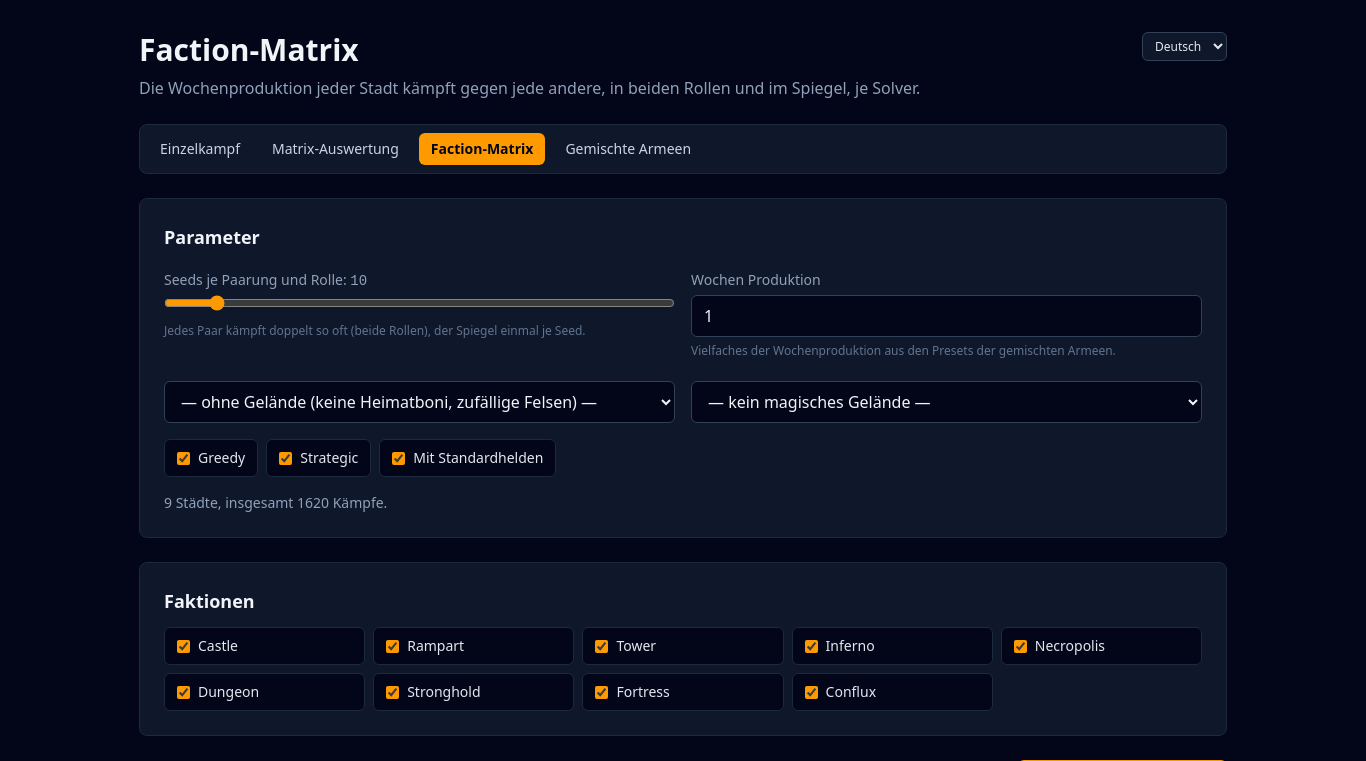
Scenario: FactionMatrixPage › counts the battles from towns, seeds and solvers
expect the text "9 Städte, insgesamt 1620 Kämpfe." is shown: met, box [164,493,387,512]
Click the checkbox labelled "Greedy" at (184, 458), box [177,452,190,464]
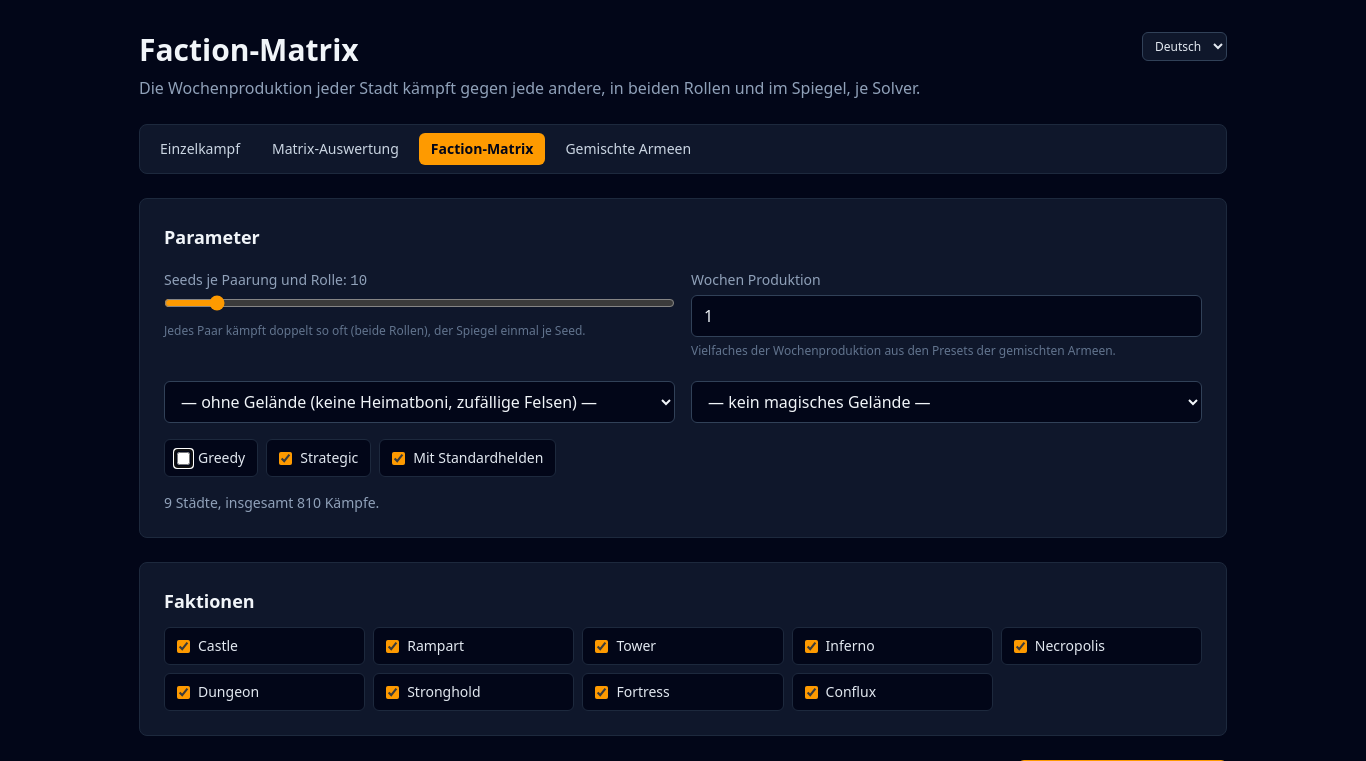
Click the checkbox labelled "Castle" at (184, 646), box [177,640,190,652]
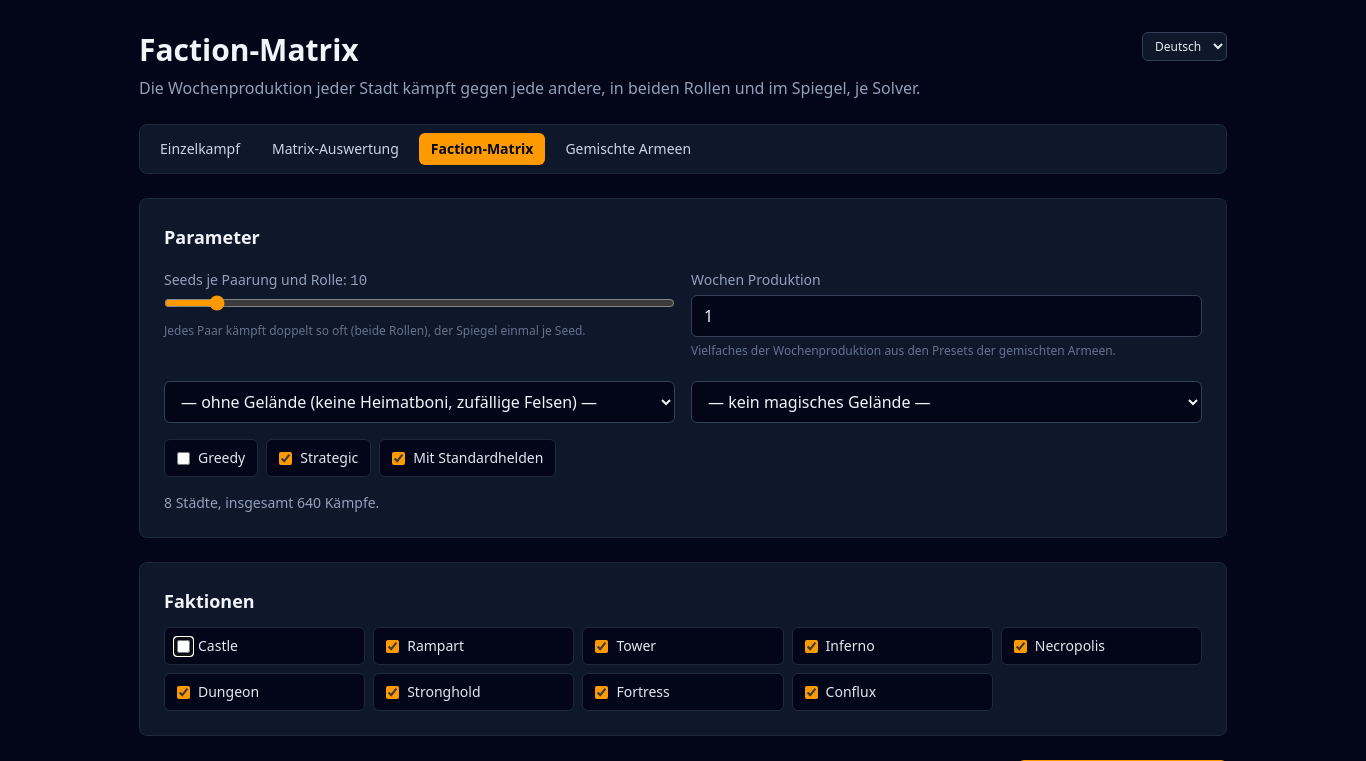
expect the text "8 Städte, insgesamt 640 Kämpfe." is shown: met, box [164,493,379,512]
